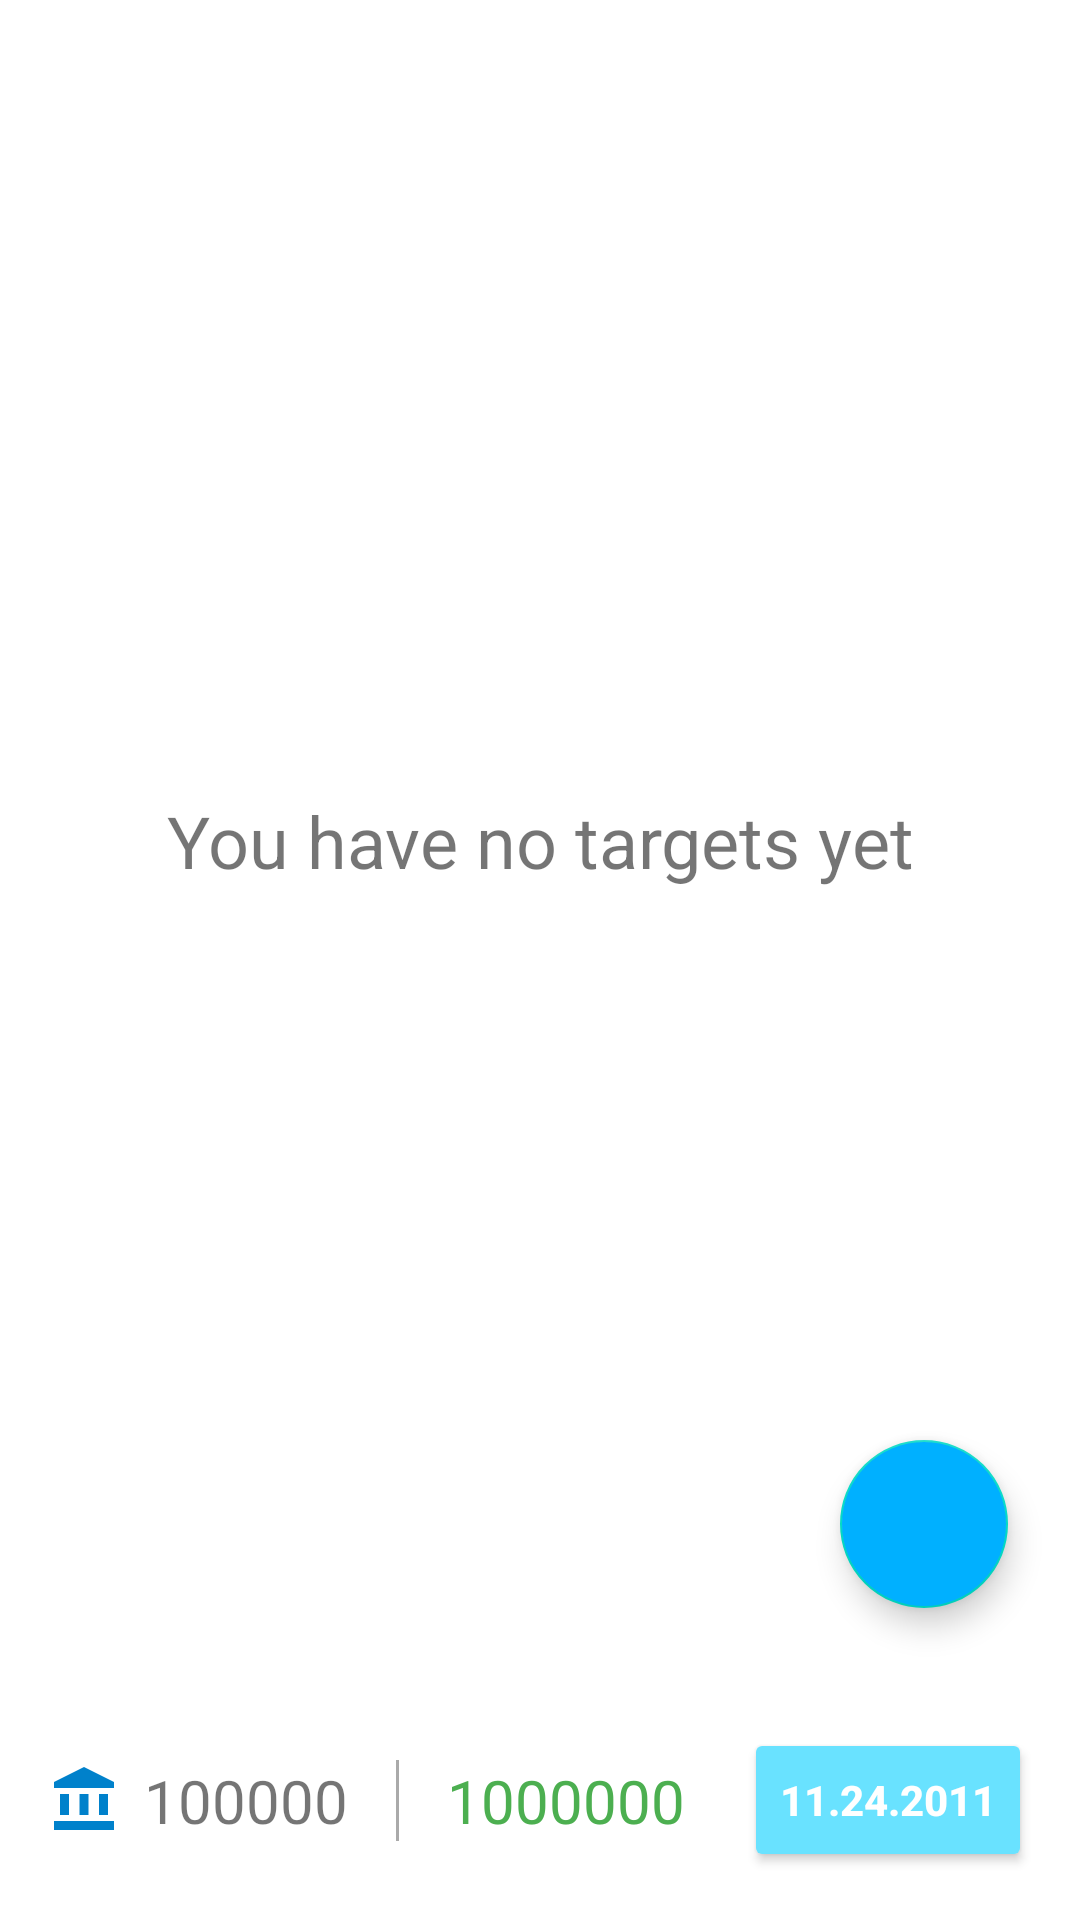

Where to tap for icons on this 1080px×1920px app screen, as [x,y]:
account balance: [84,1798]
